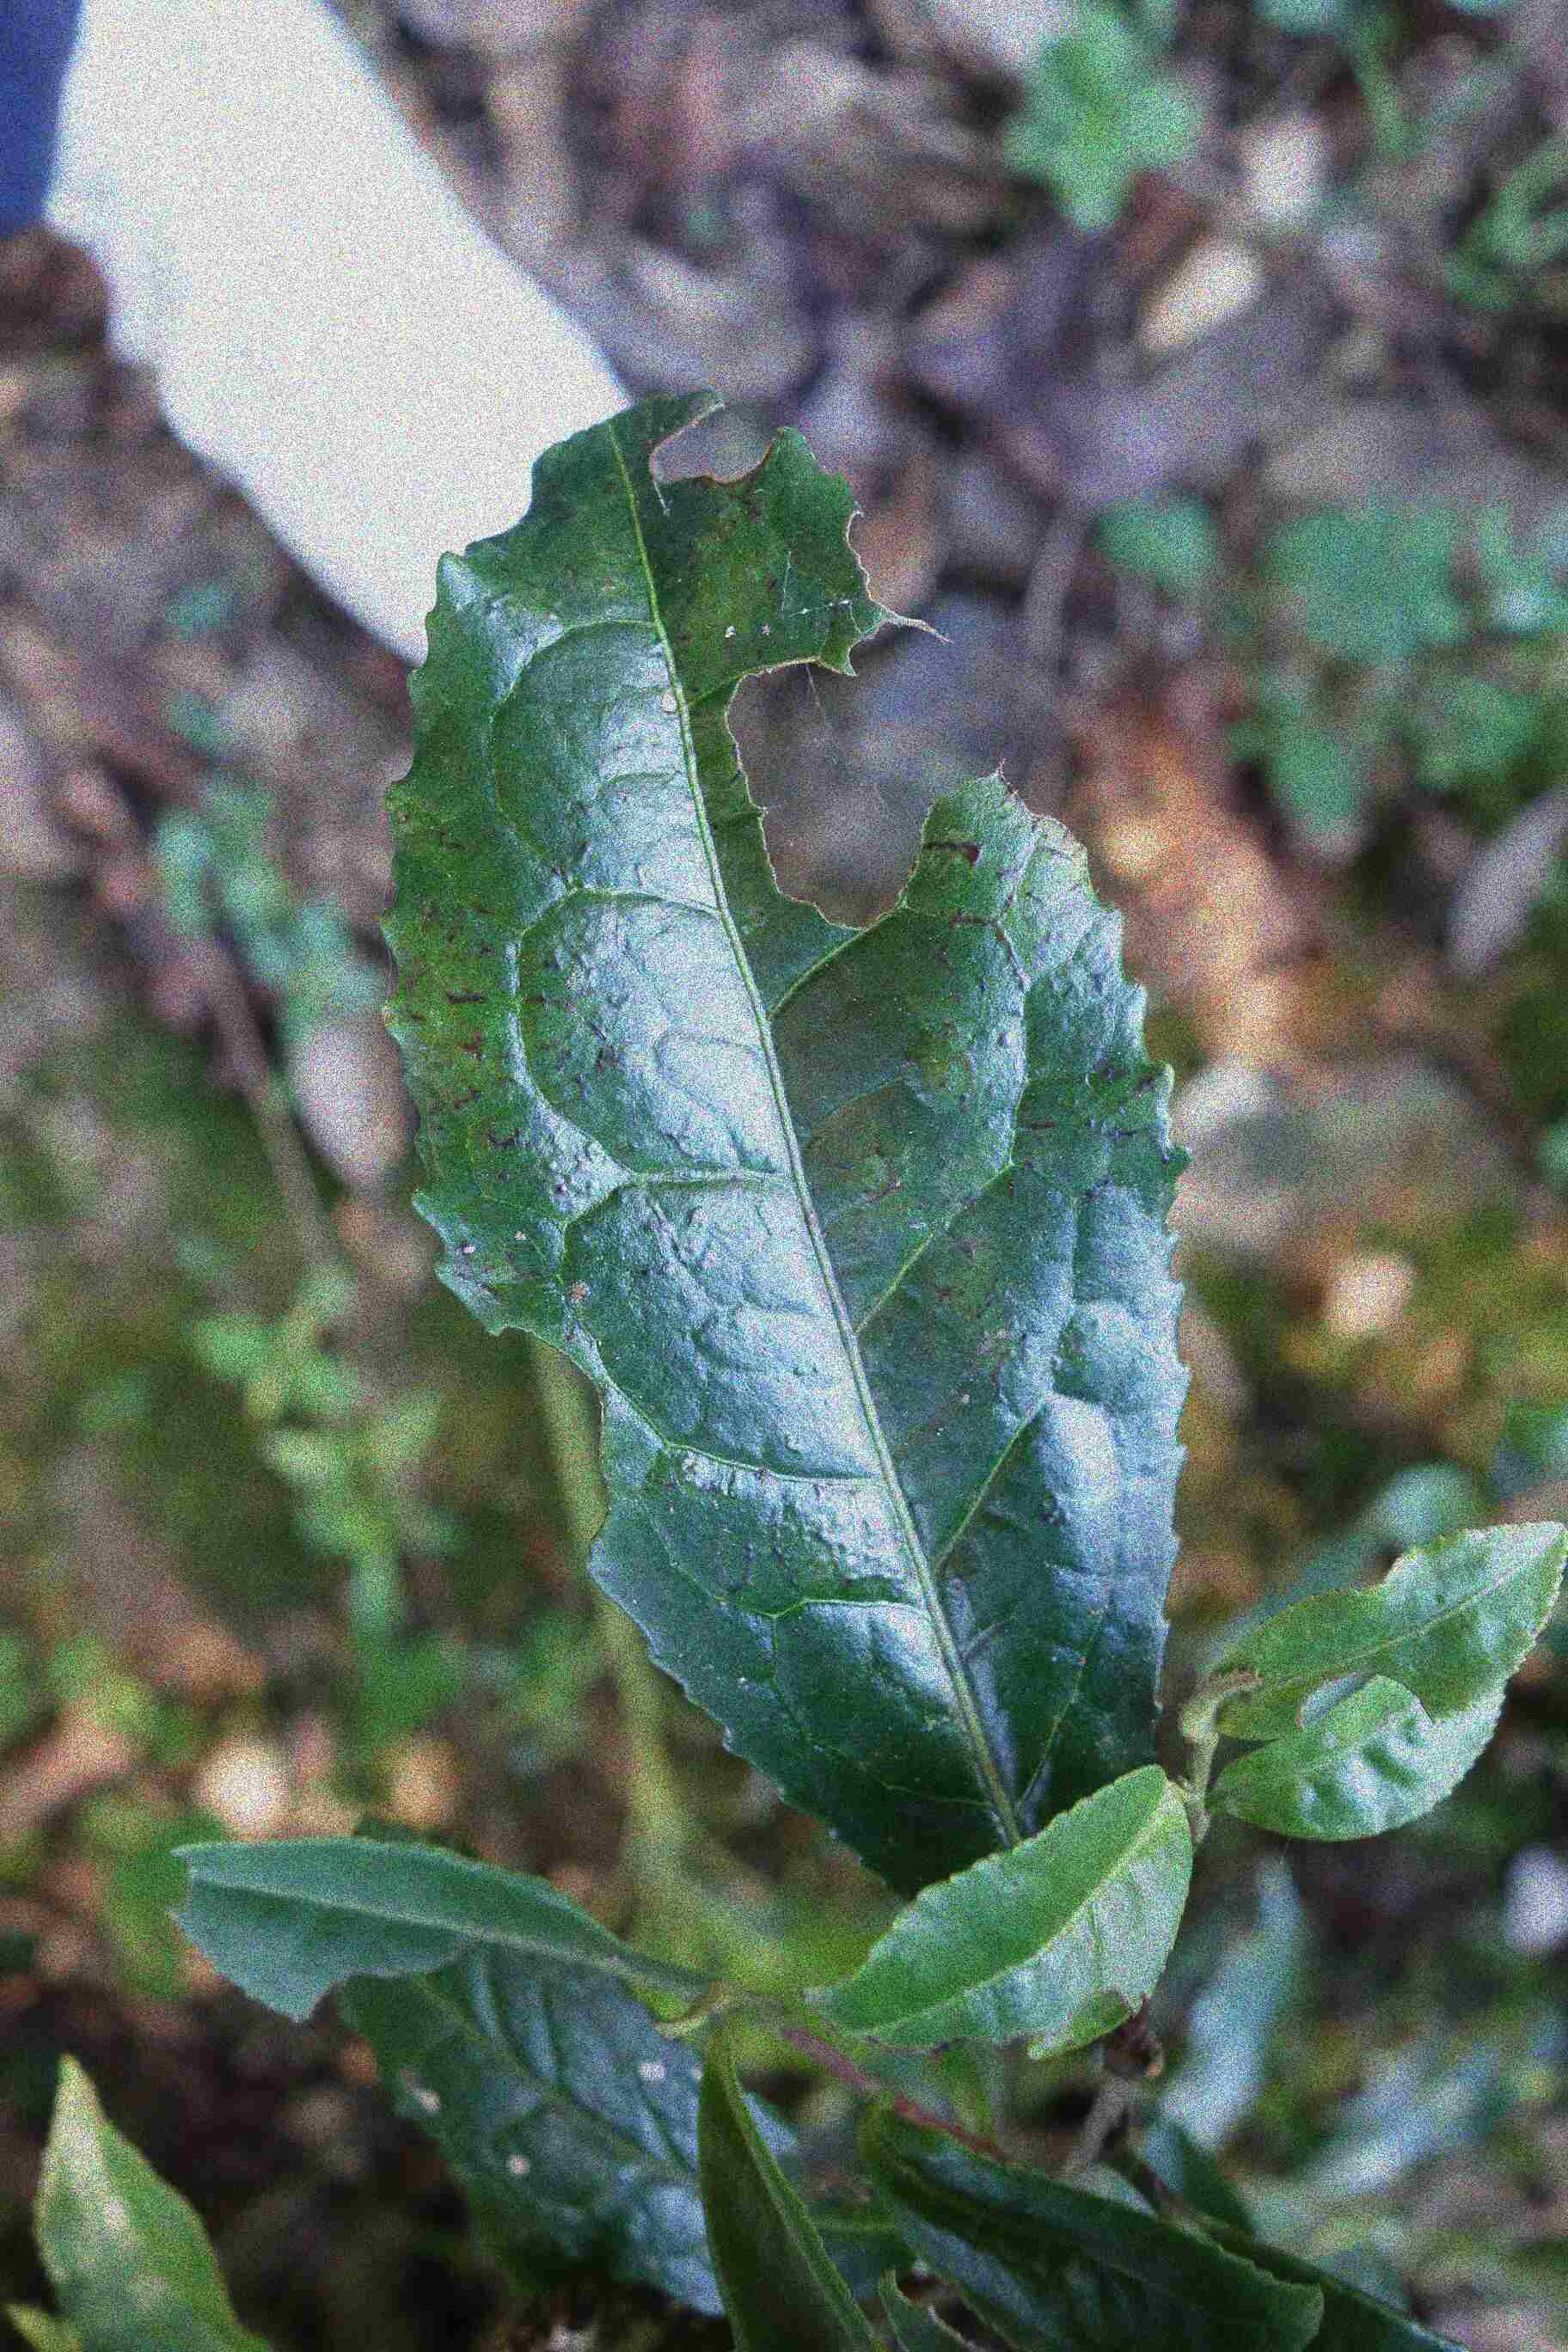chihuo_high: (374, 388, 1200, 1900), (171, 1834, 700, 2026)
chihuo_low: (805, 1760, 1193, 2058), (1214, 1515, 1568, 1746)
